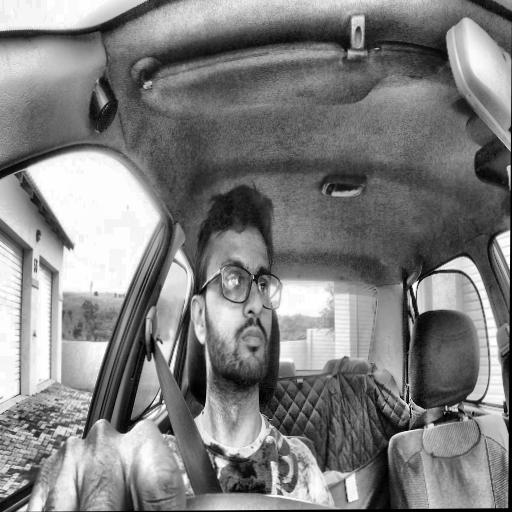awake: (189, 186, 284, 395)
